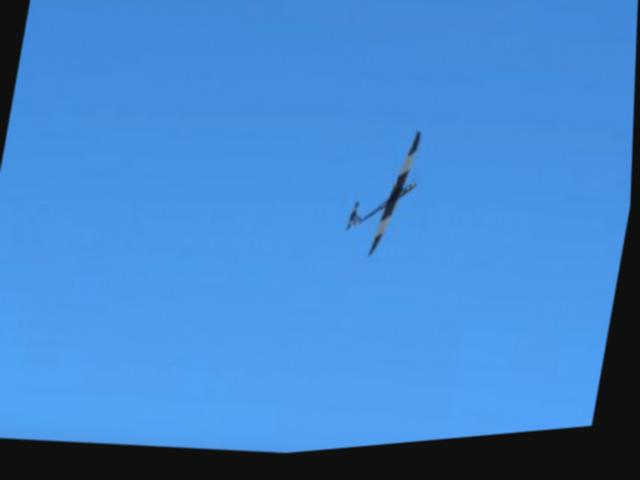uav: (342, 127, 428, 273)
